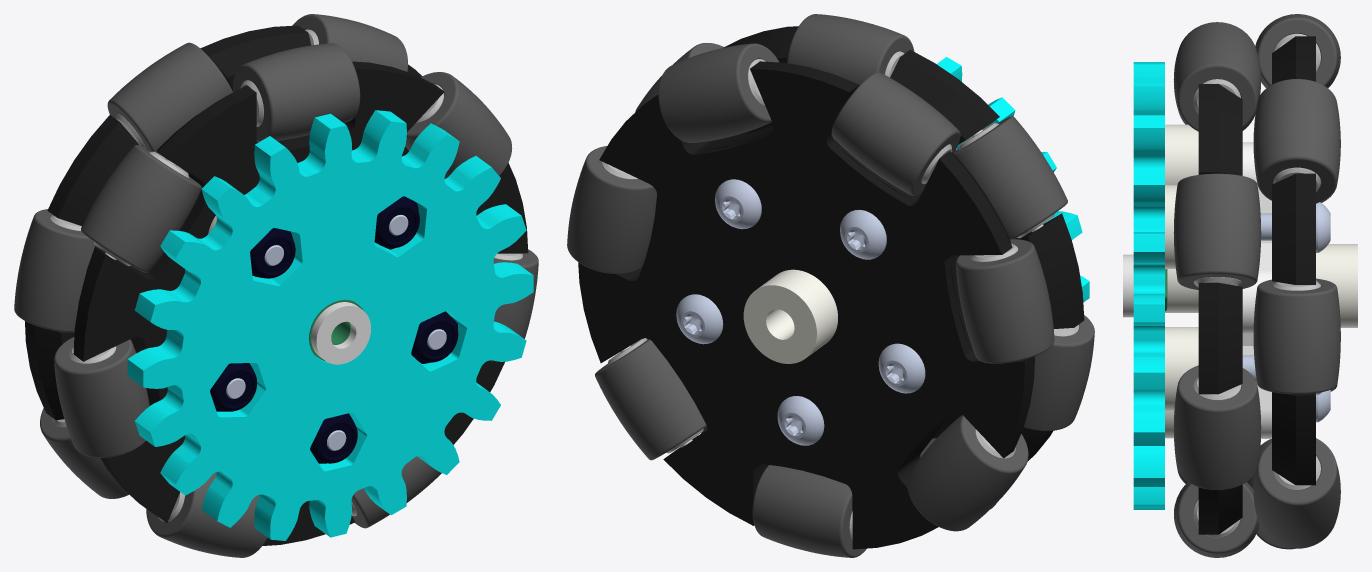
The model's file is Wheel Assembly v6.fbx.
3 renders of one model, left to right at view 1: azimuth 30°, elevation 25°; view 2: azimuth 150°, elevation 25°; view 3: azimuth 270°, elevation 25°, orthographic.
Visible parts, largest first — view 1: Body1 (×10), Body11 (×7), Body3 (×4), Body2; view 2: Body1 (×10), Body3 (×8), Body11 (×3); view 3: Body1 (×8), Body3 (×10), Body11 (×4), Body2 (×3), Body9 (×3).
Boxes of the visible parts, x1=… form: Body1 (×10): x1=25, y1=25, x2=533, y2=545; Body11 (×7): x1=54, y1=43, x2=538, y2=557; Body3 (×4): x1=14, y1=14, x2=407, y2=498; Body2: x1=311, y1=302, x2=370, y2=364; Body1 (×10): x1=578, y1=26, x2=1089, y2=549; Body3 (×8): x1=567, y1=43, x2=1054, y2=557; Body11 (×3): x1=787, y1=14, x2=1094, y2=430; Body1 (×8): x1=1133, y1=36, x2=1330, y2=534; Body3 (×10): x1=1165, y1=14, x2=1357, y2=549; Body11 (×4): x1=1173, y1=22, x2=1261, y2=557; Body2 (×3): x1=1123, y1=167, x2=1320, y2=490; Body9 (×3): x1=1193, y1=79, x2=1241, y2=400.
Bounding box in the file's own units: 3.25 × 3.24 × 1.4.
